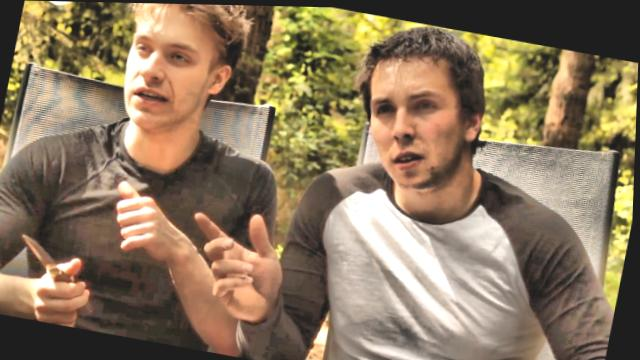knife: (4, 223, 109, 318)
